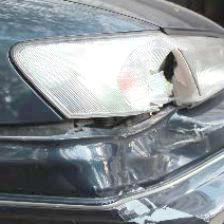head_lamp: (107, 58, 218, 193)
